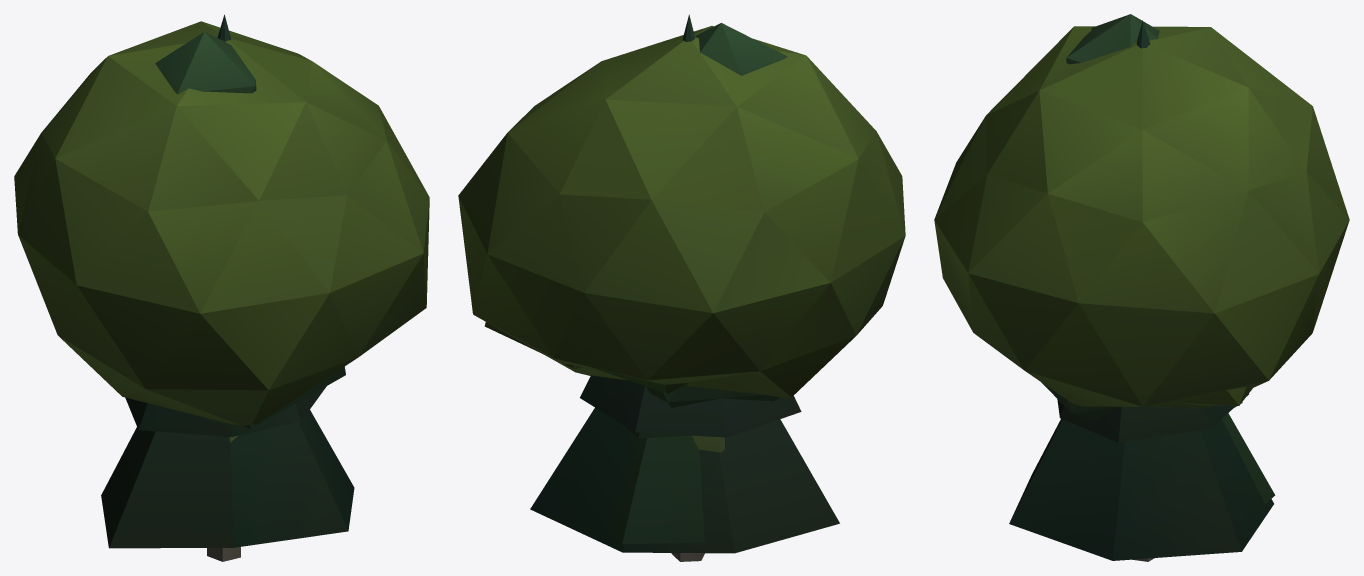
Rendered from trees.glb.
3 views of the same model, side by side, from view 1: azimuth 30°, elevation 25°; view 2: azimuth 150°, elevation 25°; view 3: azimuth 270°, elevation 25° (orthographic).
Visible parts, largest first — view 1: Tree_chestnut_mesh, Tree_fir_mesh, Tree_arve_mesh; view 2: Tree_chestnut_mesh, Tree_fir_mesh, Tree_spruce_mesh, Tree_arve_mesh; view 3: Tree_chestnut_mesh, Tree_fir_mesh, Tree_arve_mesh, Tree_spruce_mesh.
Boxes of the visible parts, <box> form: Tree_chestnut_mesh: <box>14,21,429,559</box>; Tree_fir_mesh: <box>101,14,354,548</box>; Tree_arve_mesh: <box>155,31,345,431</box>; Tree_chestnut_mesh: <box>458,26,905,561</box>; Tree_fir_mesh: <box>530,14,839,553</box>; Tree_spruce_mesh: <box>610,424,704,544</box>; Tree_arve_mesh: <box>646,23,787,407</box>; Tree_chestnut_mesh: <box>934,26,1349,407</box>; Tree_fir_mesh: <box>1009,20,1273,560</box>; Tree_arve_mesh: <box>1041,14,1159,420</box>; Tree_spruce_mesh: <box>1222,402,1275,503</box>.
Bounding box in the file's own units: 0.7209 × 0.99 × 0.6969.
